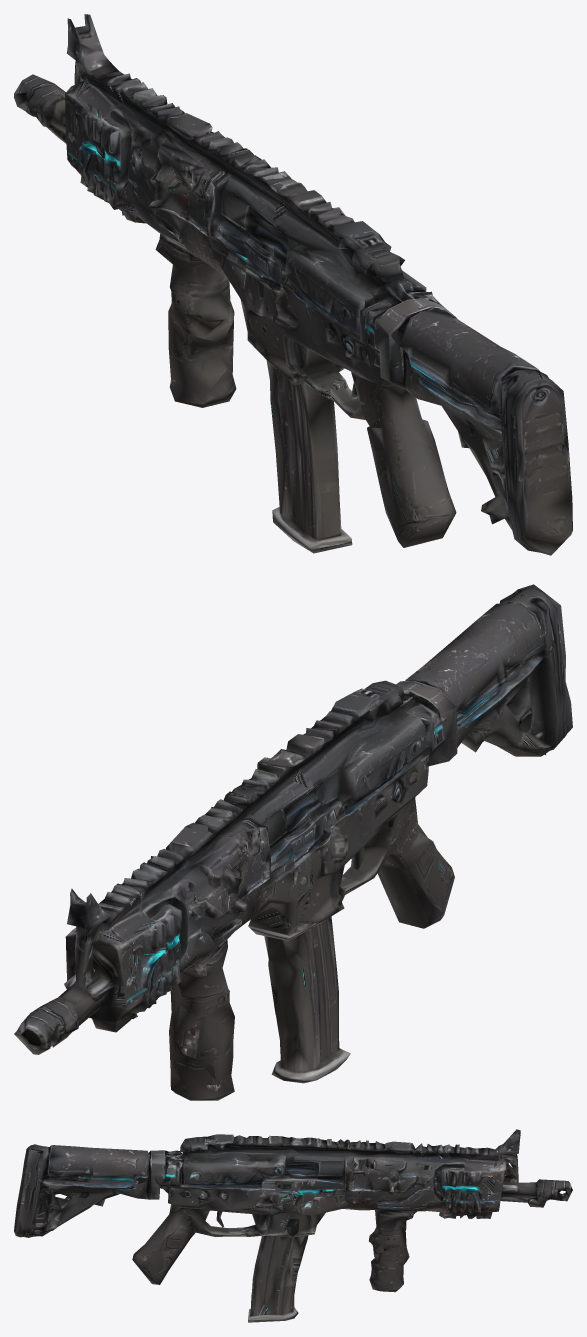
The model's file is rifle.glb.
3 renders of one model, top to bottom at view 1: azimuth 30°, elevation 25°; view 2: azimuth 150°, elevation 25°; view 3: azimuth 270°, elevation 25°, orthographic. The views are drawn at different scales.
Parts seen in each view (by area): view 1: tripo_node_48fbd658-68d7-41e5-91da-3892c32421bb; view 2: tripo_node_48fbd658-68d7-41e5-91da-3892c32421bb; view 3: tripo_node_48fbd658-68d7-41e5-91da-3892c32421bb.
Boxes of the visible parts, <box> form: tripo_node_48fbd658-68d7-41e5-91da-3892c32421bb: <box>14,14,572,555</box>; tripo_node_48fbd658-68d7-41e5-91da-3892c32421bb: <box>14,584,572,1100</box>; tripo_node_48fbd658-68d7-41e5-91da-3892c32421bb: <box>14,1129,572,1322</box>.
Size of the model in its own units: 0.1081 by 0.3666 by 0.9966.
1 material, 1 textured.
